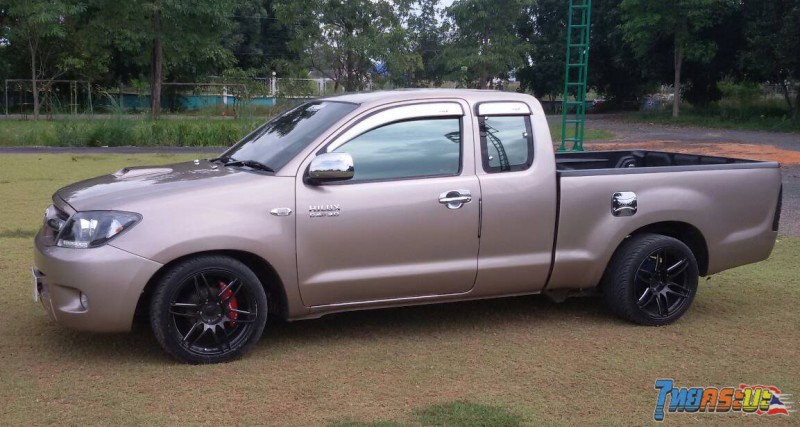pickup: (31, 84, 783, 359)
